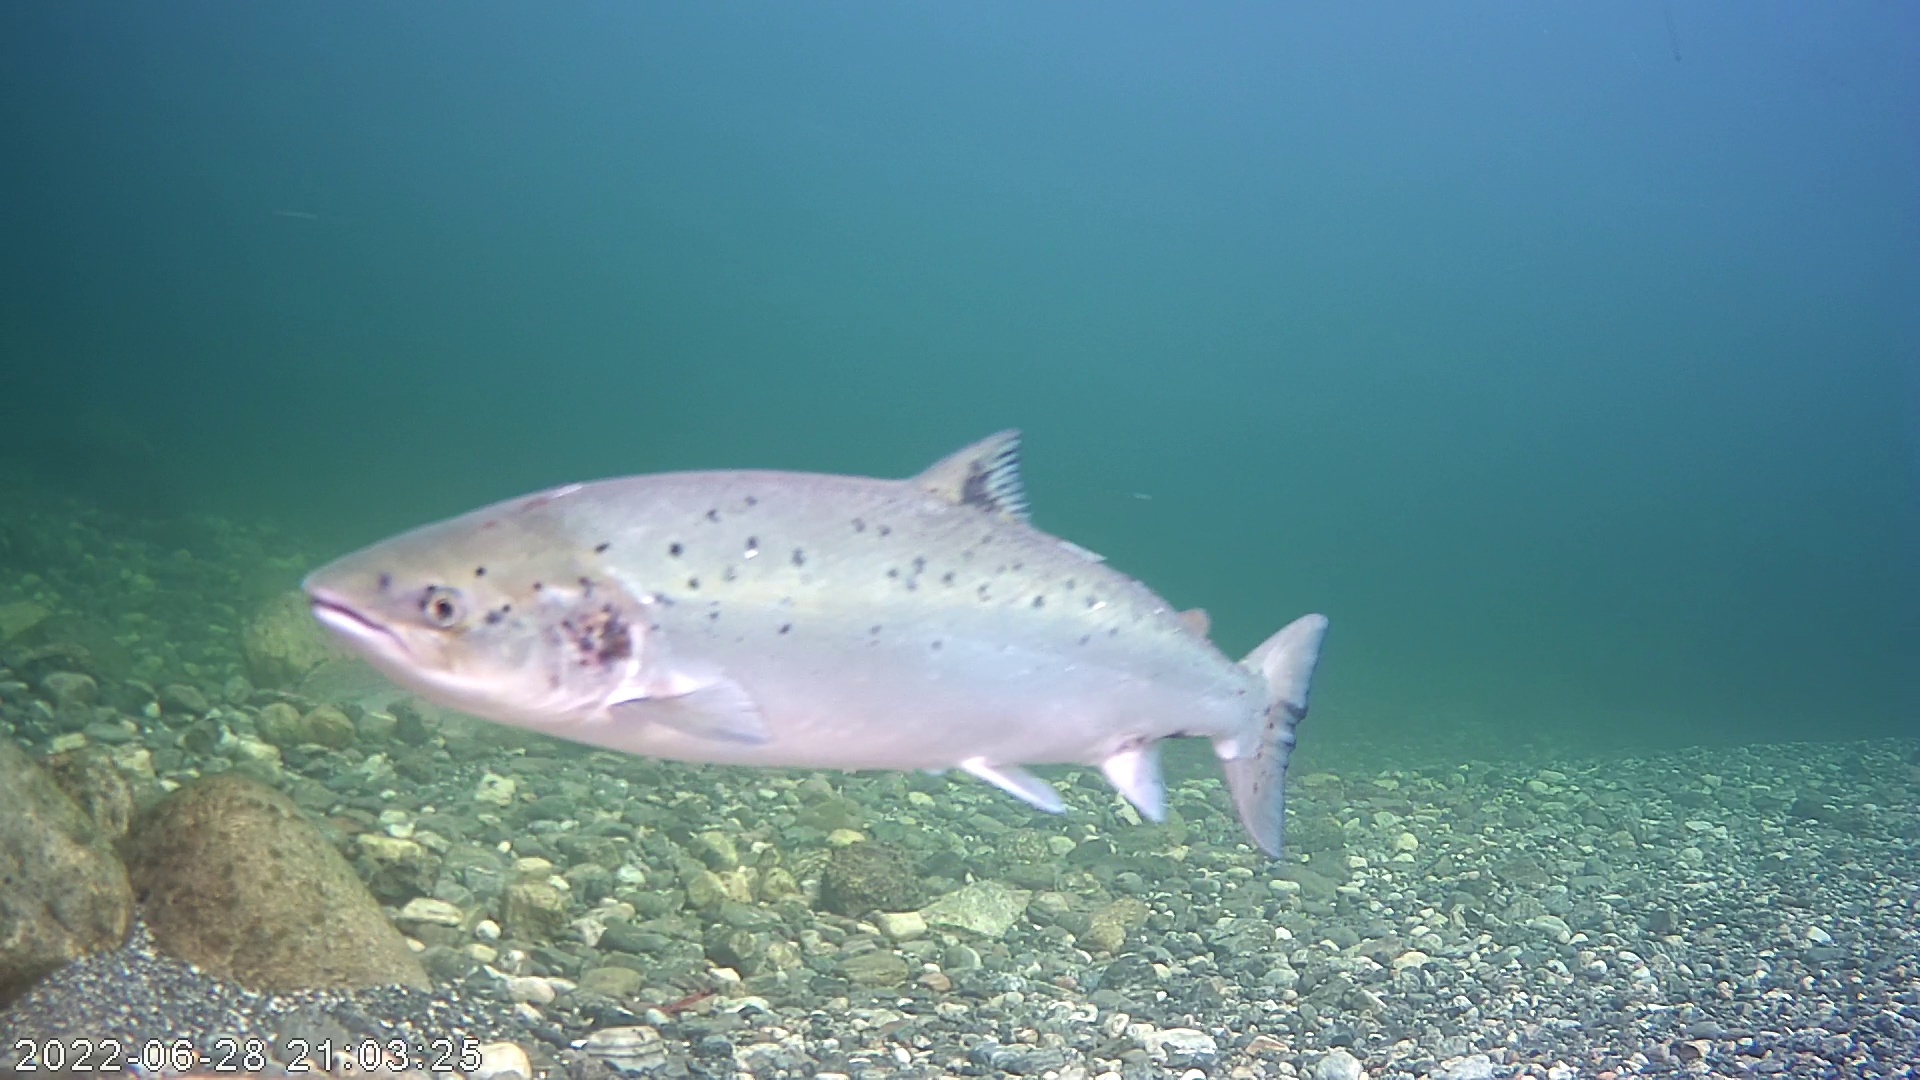salmon: (258, 336, 1346, 882)
